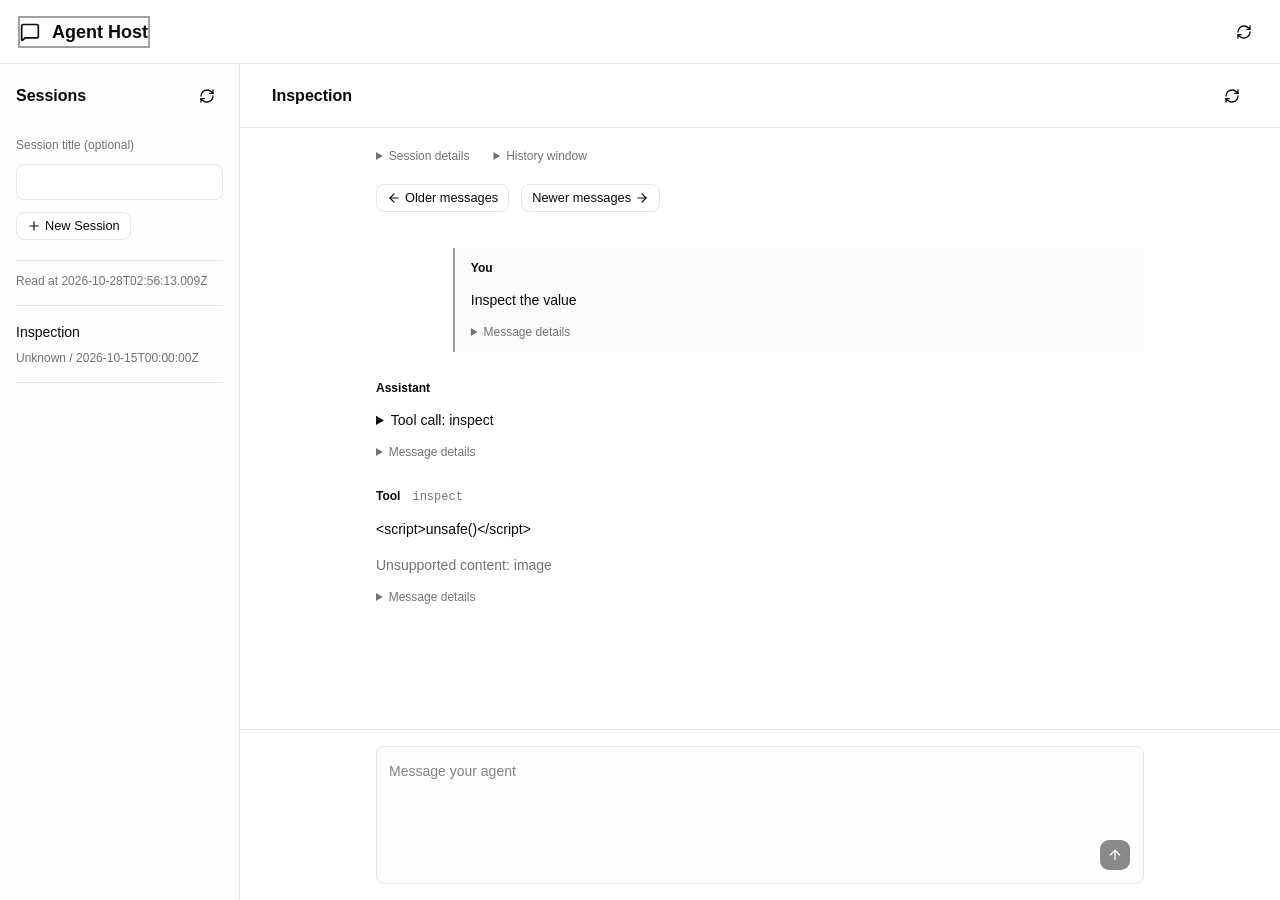
Test case: Agent Host Session browsing › does not hide the current answer when refreshing an older oldest history window
Type "New question" into the text box named "New input" at (760, 795), box left=389, top=759, right=1131, bottom=831
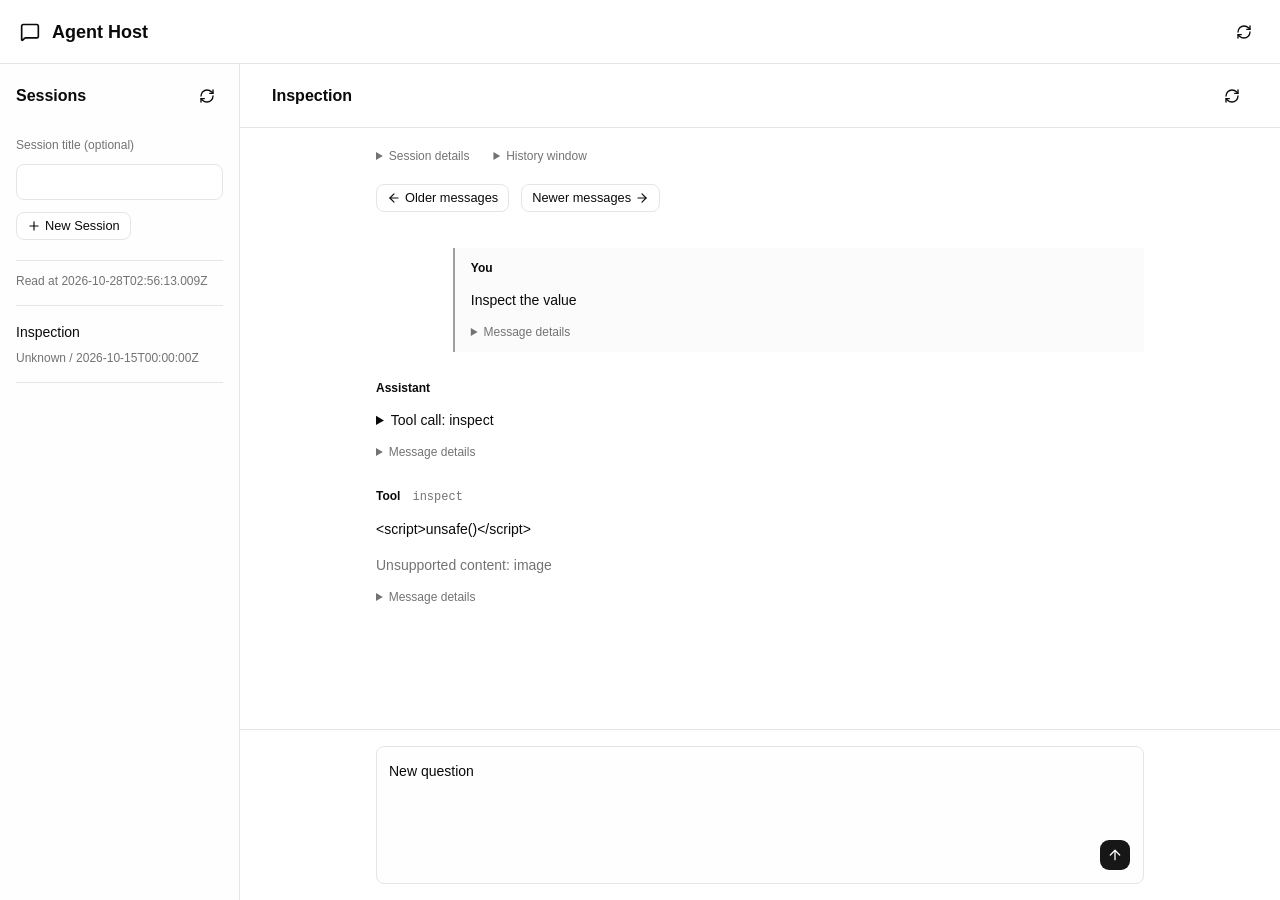
Click the button named "Send input" at (1115, 855), box left=1099, top=839, right=1131, bottom=871
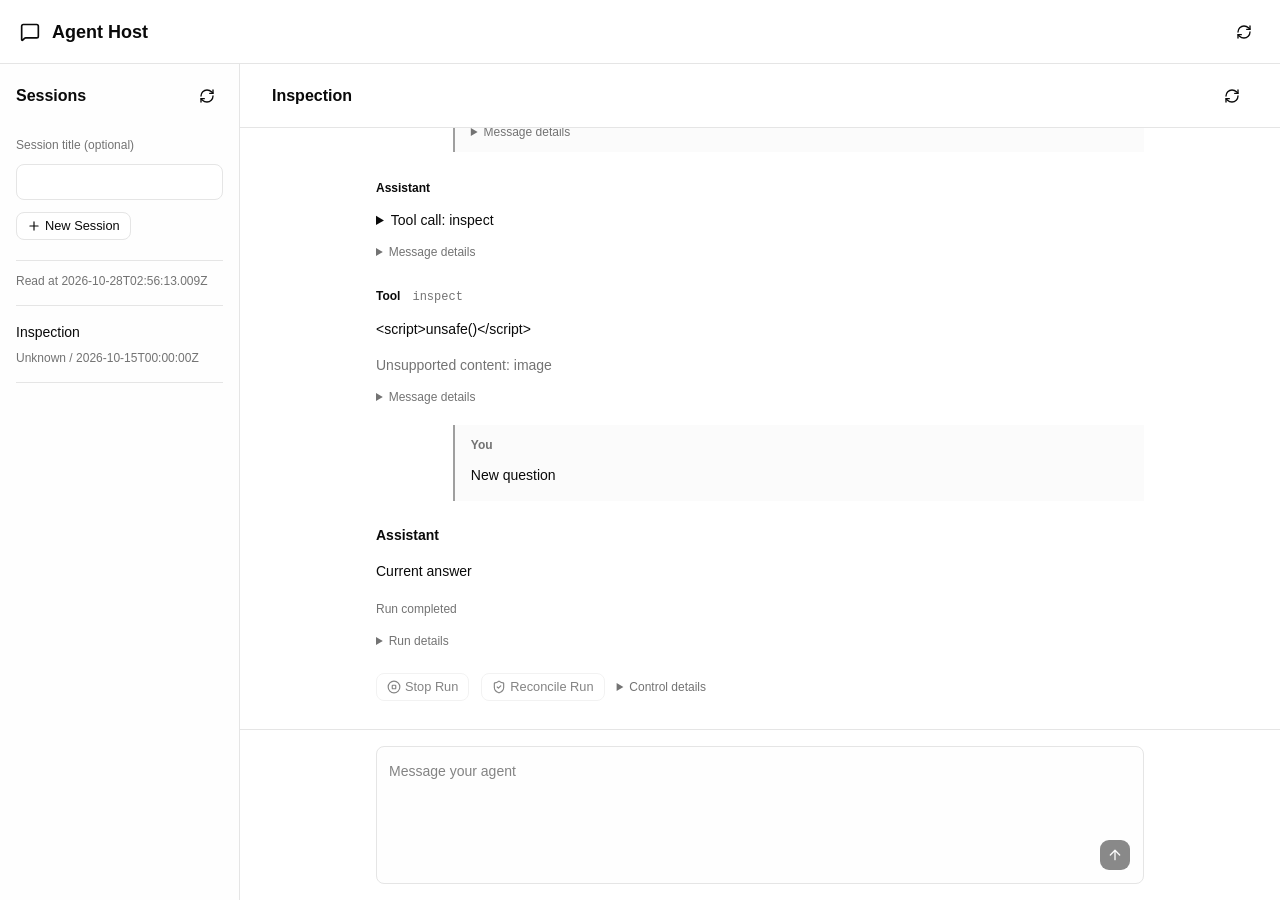
Expected: the text "Run completed" is shown, left=376, top=602, right=457, bottom=616
Expected: the text named "Current assistant output" reads "Current answer", left=376, top=563, right=472, bottom=579
